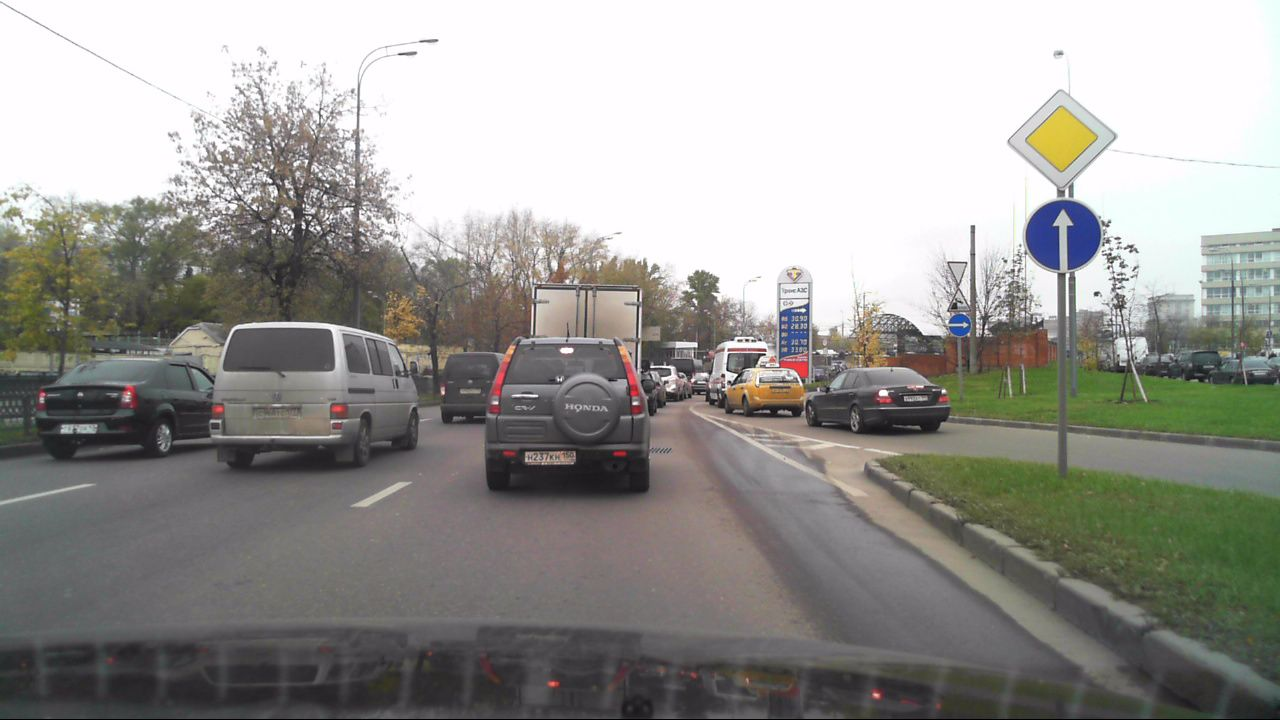Turn Right: (948, 314, 972, 337)
